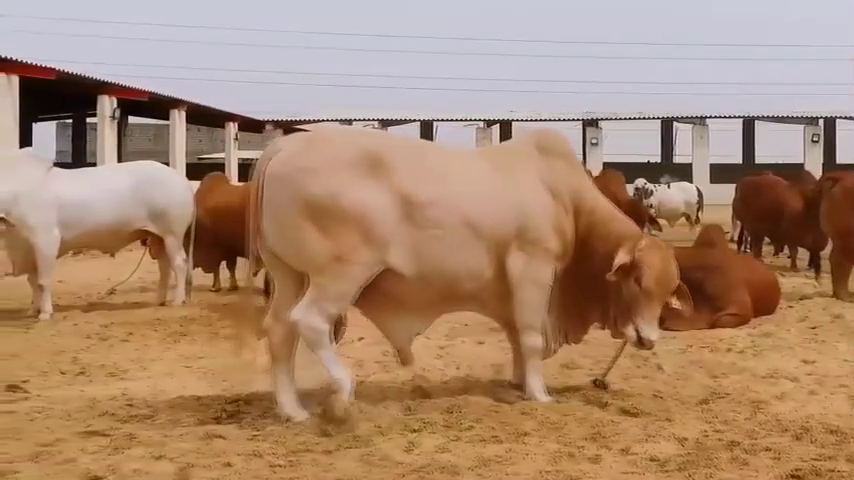bo: (233, 121, 696, 434), (1, 147, 197, 325), (644, 216, 784, 338), (725, 159, 825, 276), (185, 161, 263, 303), (801, 169, 854, 304), (579, 159, 655, 239), (630, 172, 708, 234)
